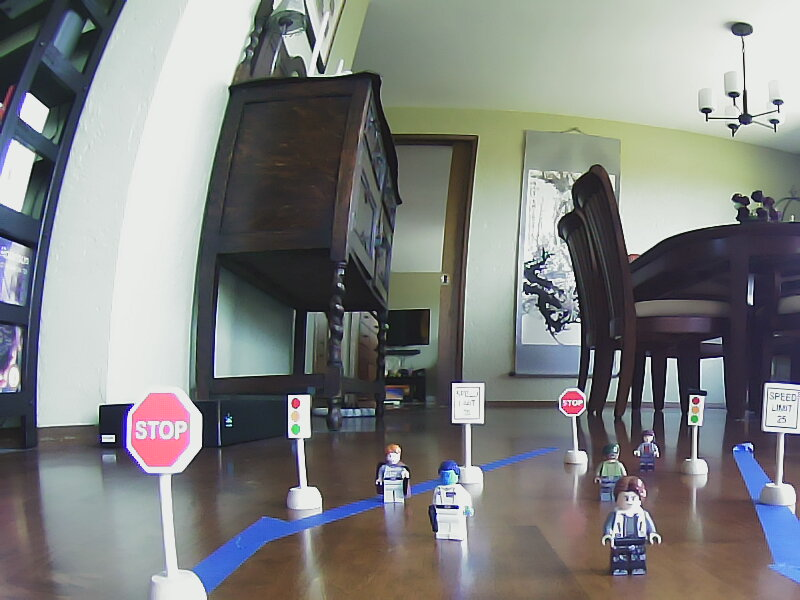SpeedLimit25: (763, 383, 795, 436)
SpeedLimit55: (451, 382, 485, 423)
StopSign: (124, 385, 201, 471), (559, 387, 585, 417)
TrafficLight: (284, 388, 311, 441), (685, 387, 705, 431)
person: (603, 476, 663, 576), (428, 461, 476, 546), (376, 440, 415, 510), (596, 442, 624, 500), (632, 425, 663, 475)
